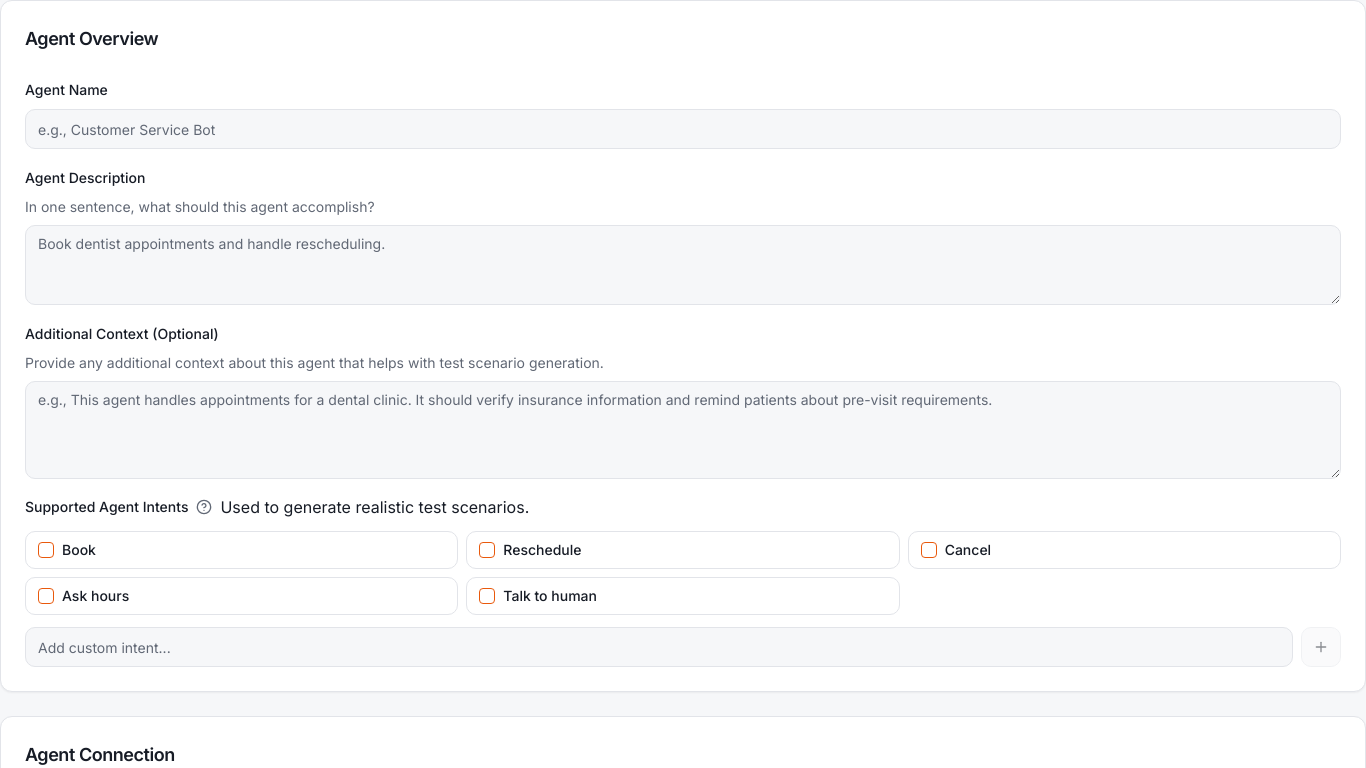
AgentConfigForm › validation › shows error when phone number is empty
The width and height of the screenshot is (1366, 768).
Type "Test" into the field labelled "Agent Name".
click(683, 129); type("Test")  # box x1=25 y1=109 x2=1341 y2=149
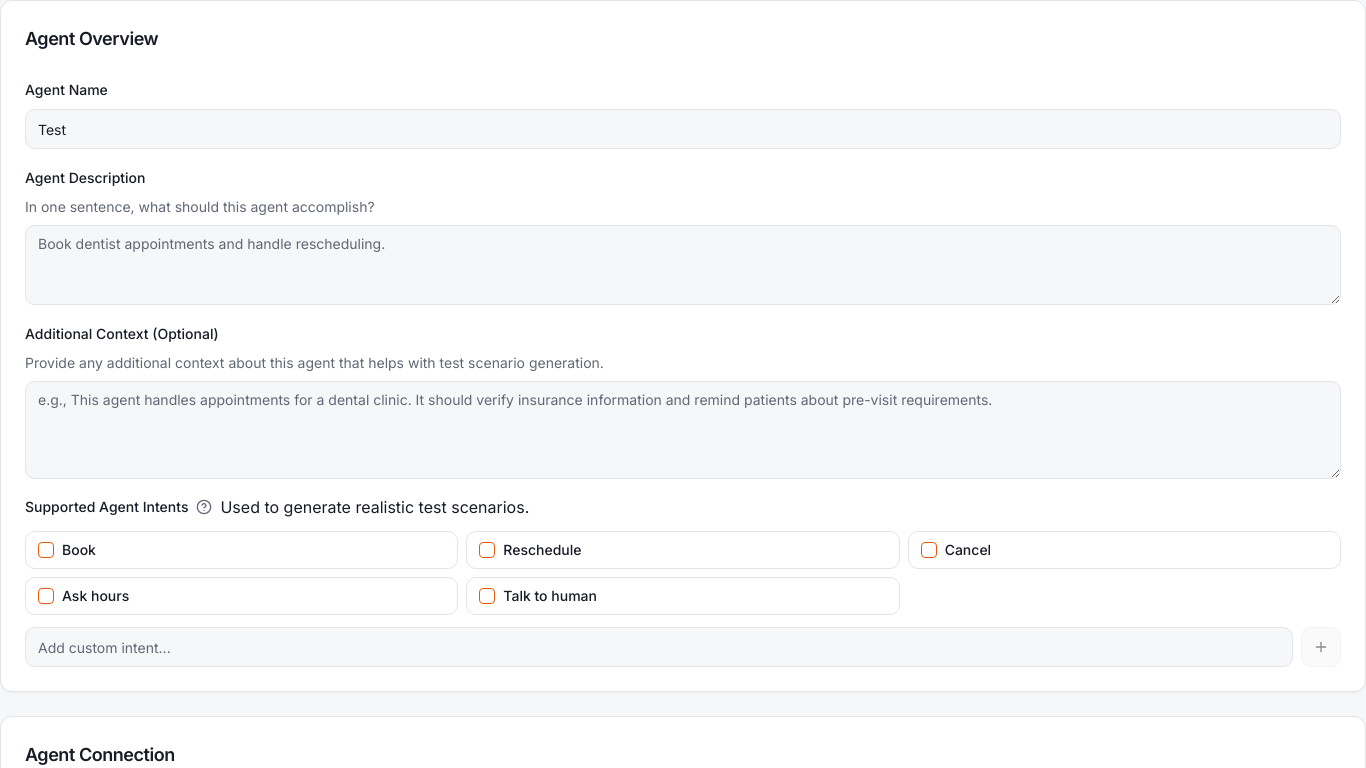
Type "Description" into the text box labelled "Agent Description".
click(683, 265); type("Description")  # box x1=25 y1=225 x2=1341 y2=305
(page scrolled)
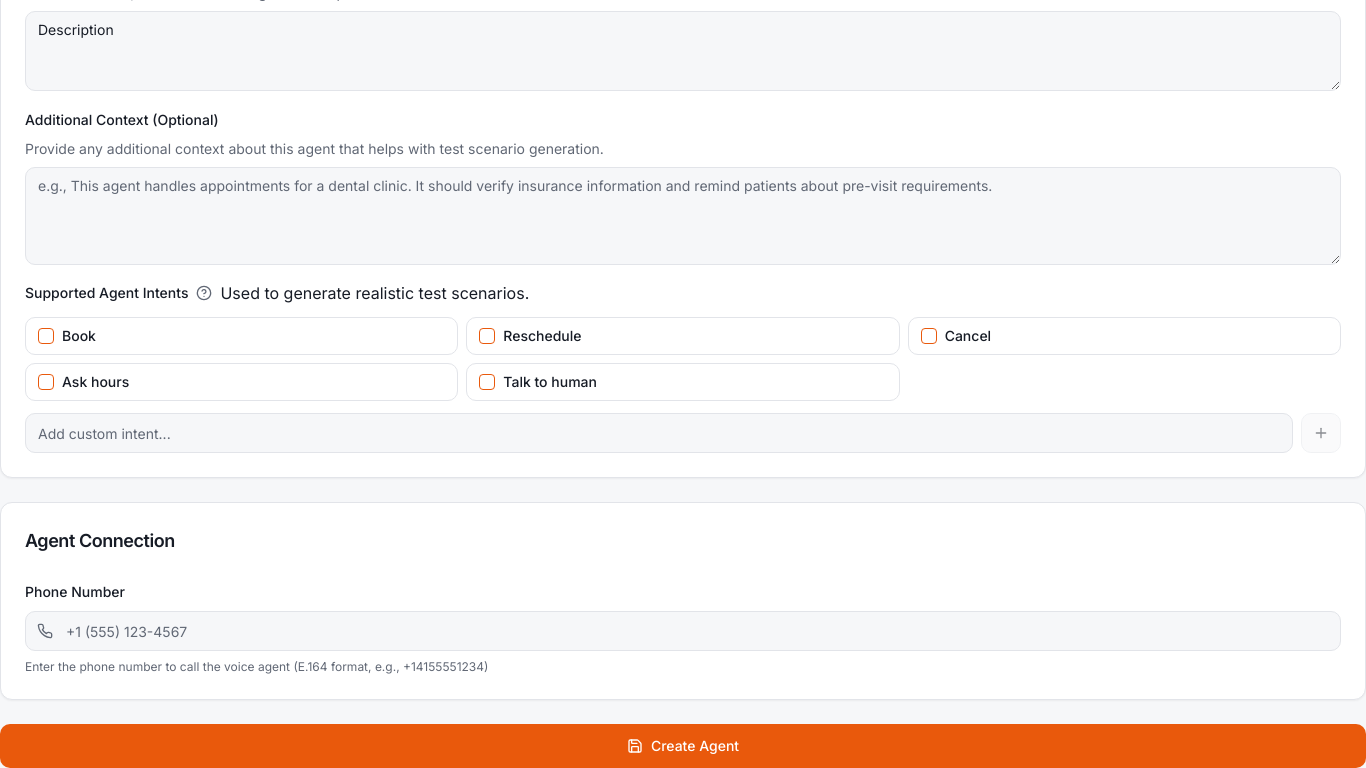
Click the button "Create Agent".
click(683, 746)  # box x1=0 y1=724 x2=1365 y2=767
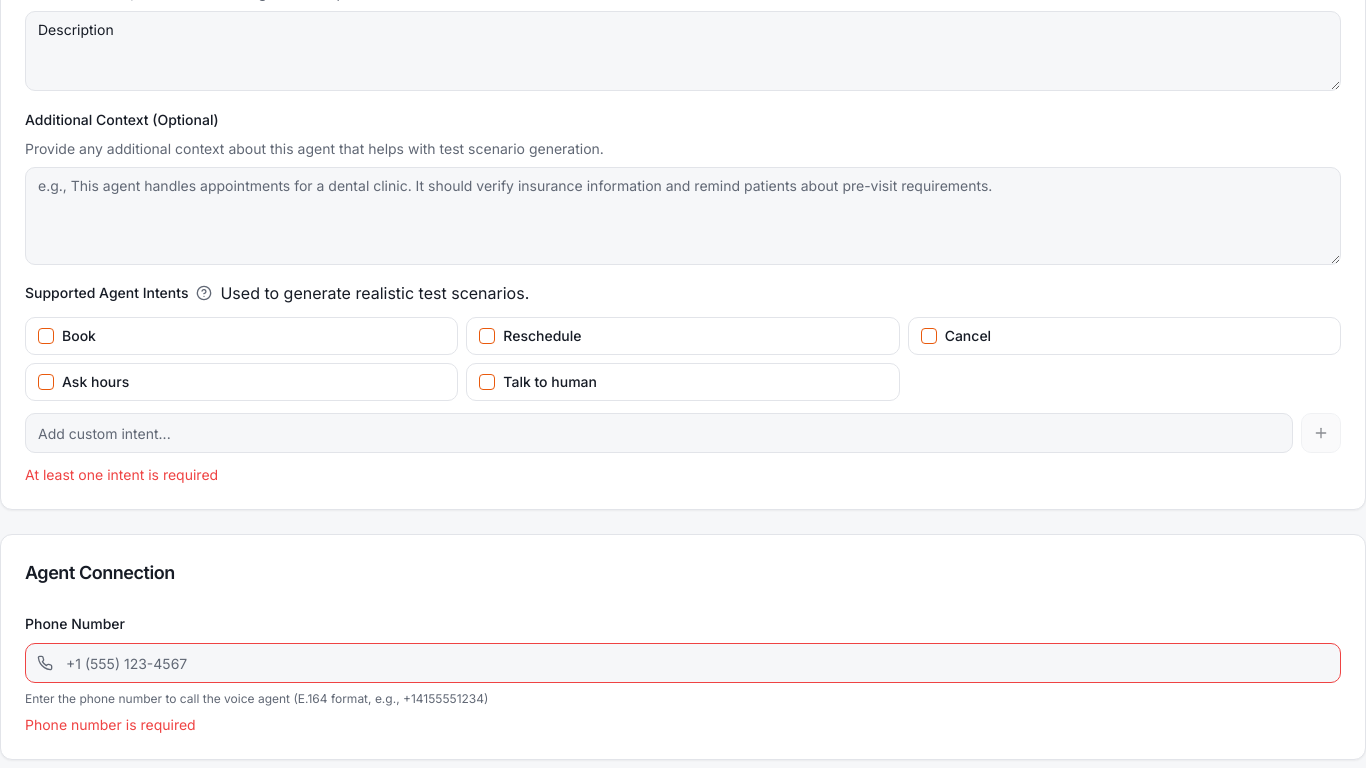
Now the text "Phone number is required" is shown, box x1=25 y1=716 x2=196 y2=733
